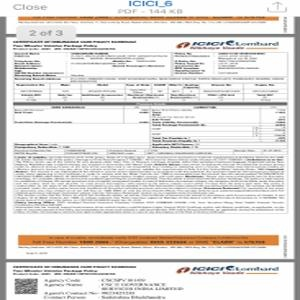image: (173, 264, 282, 277), (174, 39, 279, 51)
table: (13, 102, 290, 159), (13, 80, 288, 101)
text: (14, 157, 284, 212), (14, 51, 288, 78), (11, 39, 137, 52)
